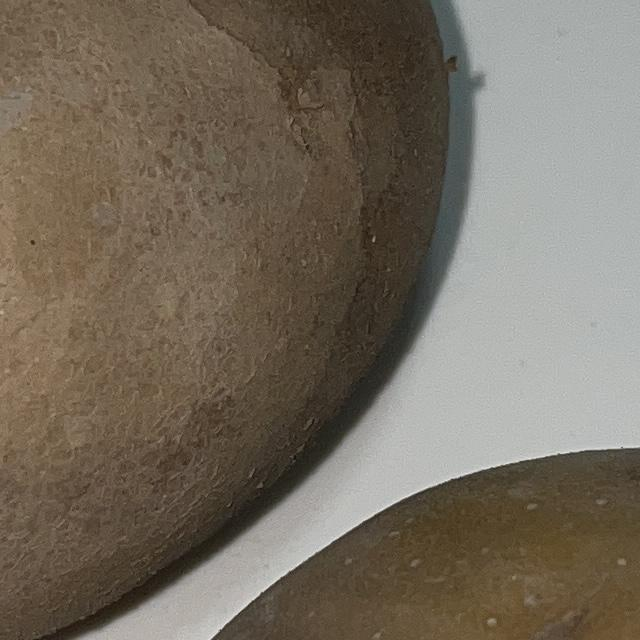potato: (0, 0, 481, 640), (0, 403, 640, 640)
